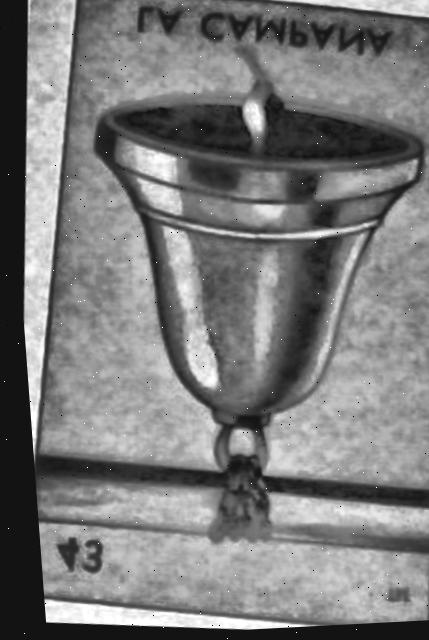La Campana: (28, 0, 429, 627)
